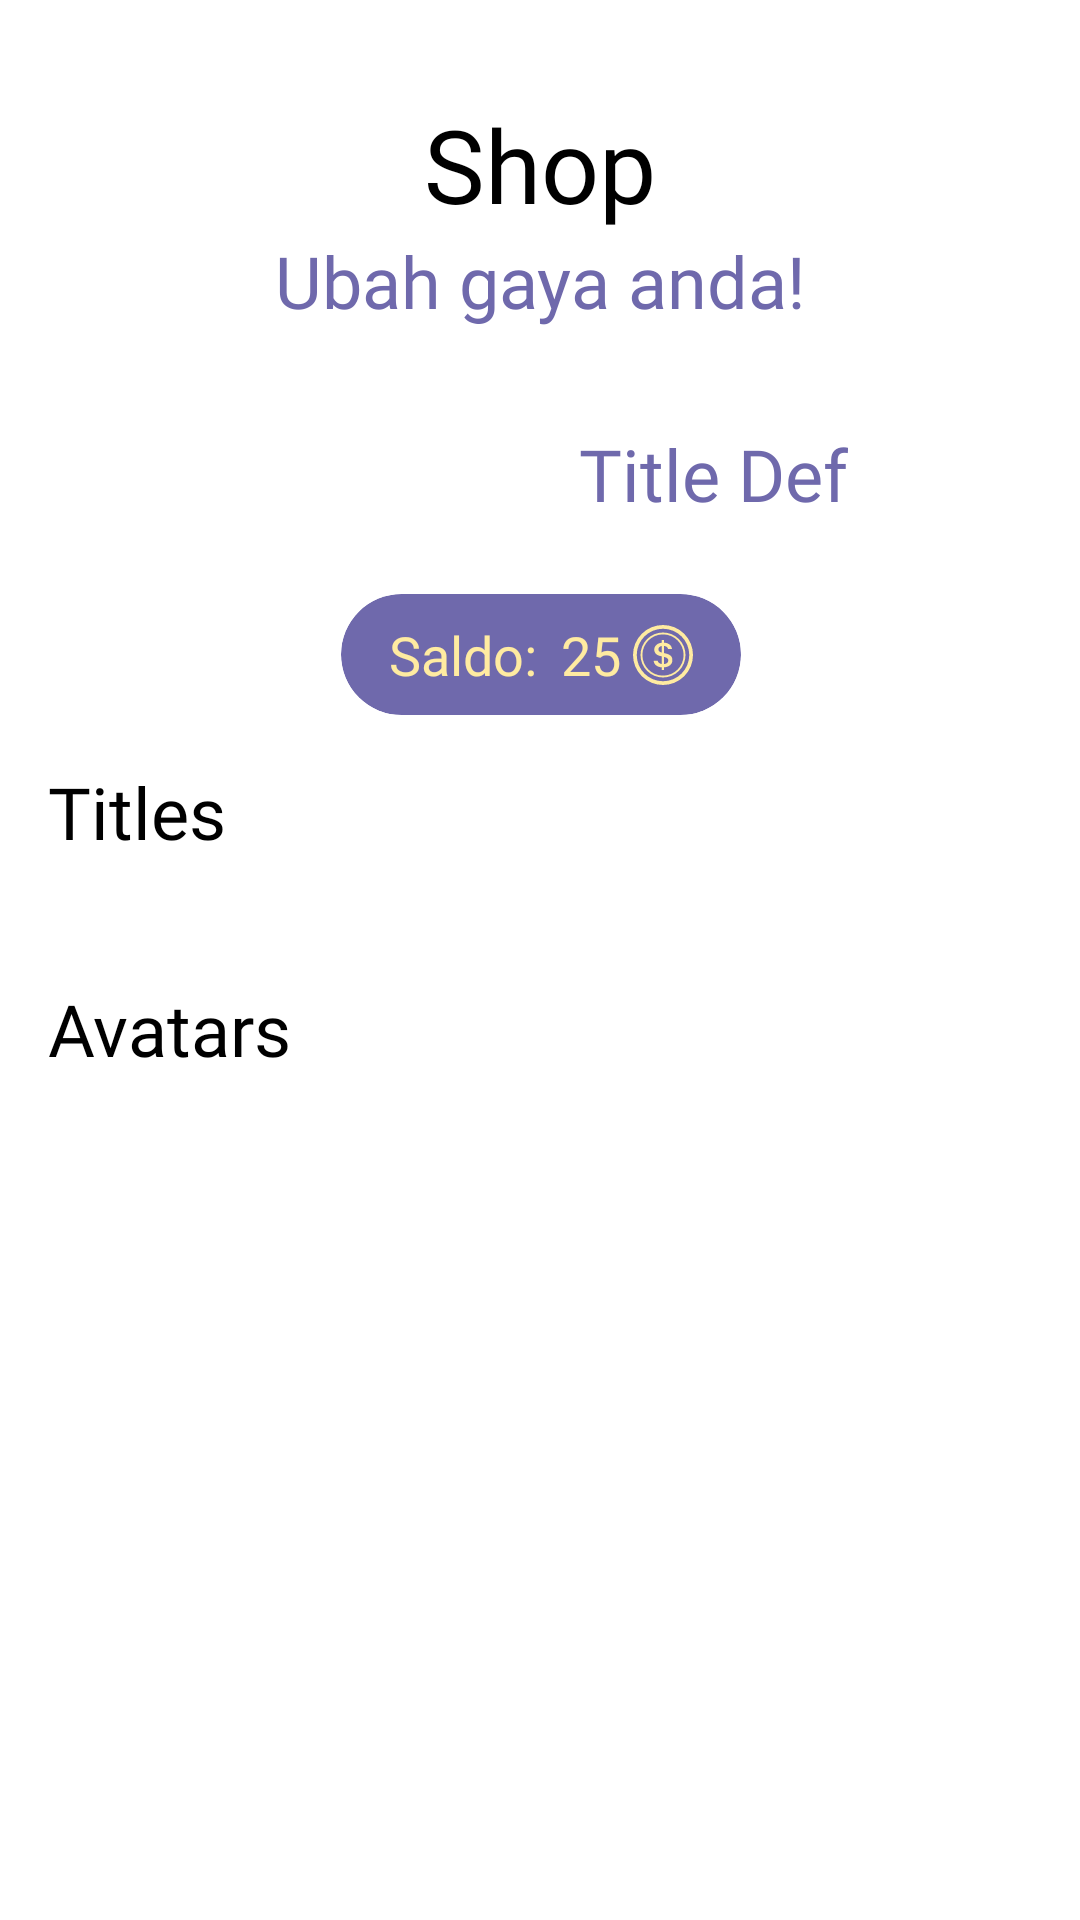

Where icons sit on this 1080 × 1920 app screen, as Rect(x1, y1, x2, y2):
coin: Rect(633, 625, 693, 685)
